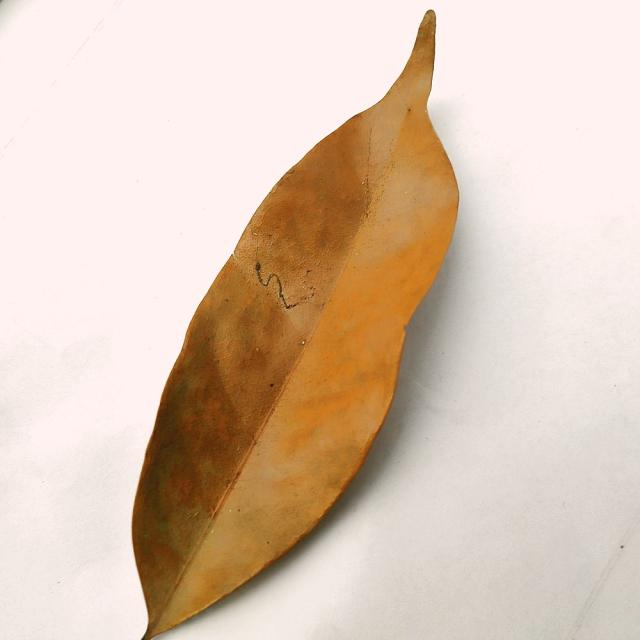Dry_Leaf-Lychee: (131, 10, 461, 639)
